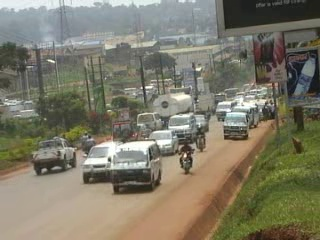Car: (80, 139, 124, 184), (143, 127, 181, 156), (110, 118, 142, 146), (191, 112, 208, 132), (134, 121, 151, 139)
Motorcycle: (176, 138, 195, 174), (192, 123, 209, 153), (84, 133, 96, 155), (80, 128, 88, 150)
